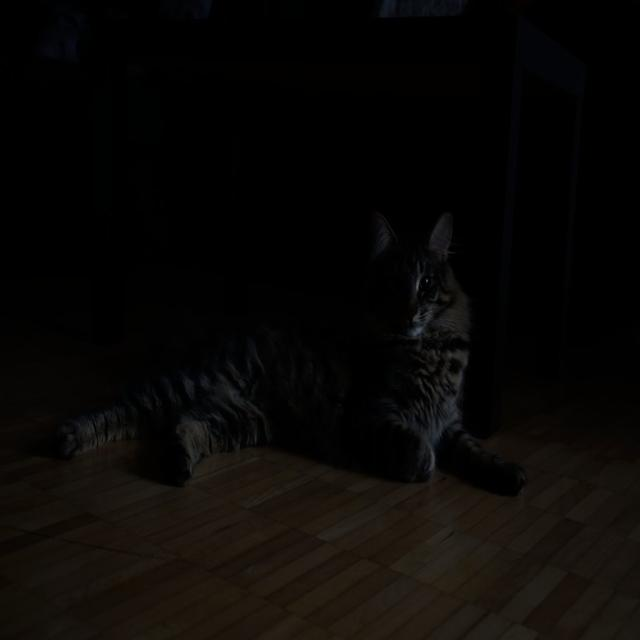Cat: (58, 185, 536, 525)
